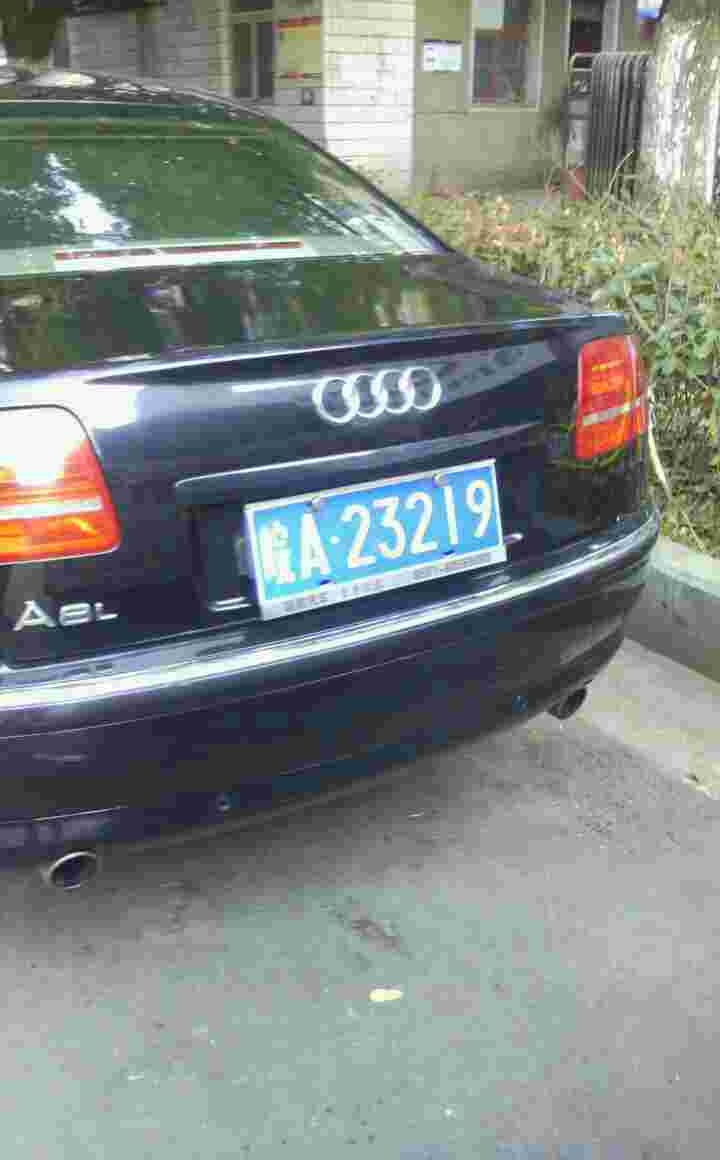license_plate: (254, 460, 512, 605)
